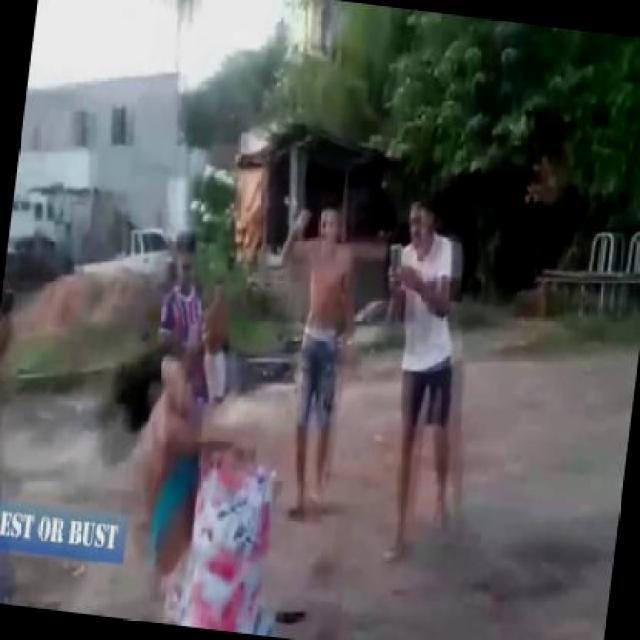non-fight: (356, 190, 489, 566), (251, 194, 374, 514)
